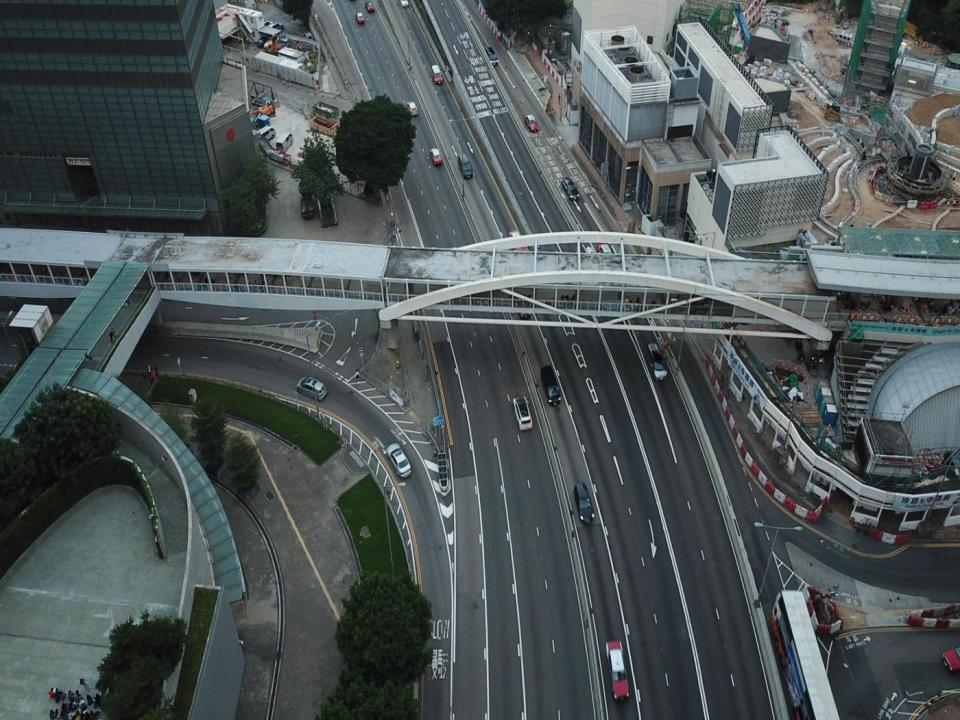bus: (768, 590, 839, 719)
car: (605, 640, 630, 701), (387, 442, 411, 478), (513, 396, 532, 431), (508, 230, 526, 263), (514, 292, 532, 319), (597, 238, 613, 267), (941, 648, 960, 672), (561, 177, 579, 201), (524, 112, 540, 134), (429, 147, 443, 166), (262, 22, 284, 34), (256, 17, 274, 28), (263, 35, 276, 50), (407, 101, 418, 116), (257, 33, 268, 47), (302, 29, 313, 42), (355, 11, 365, 25), (365, 1, 376, 12), (399, 0, 407, 7)
van: (644, 341, 666, 381), (574, 482, 594, 526), (540, 366, 561, 406), (296, 375, 328, 401), (252, 125, 276, 143), (458, 154, 474, 180), (275, 132, 294, 152), (486, 46, 498, 68), (431, 64, 443, 85)
